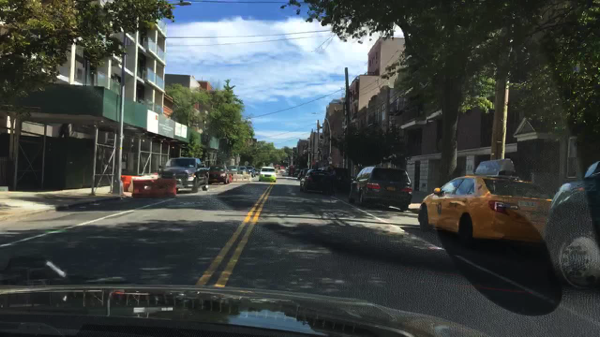car: (417, 159, 554, 251), (350, 167, 411, 210), (301, 169, 334, 195), (332, 167, 348, 191), (209, 166, 228, 184), (258, 167, 277, 182), (247, 165, 256, 178), (227, 165, 239, 174), (298, 170, 307, 180), (237, 167, 247, 174), (294, 169, 299, 176)
truck: (543, 162, 599, 292), (158, 158, 209, 191)
